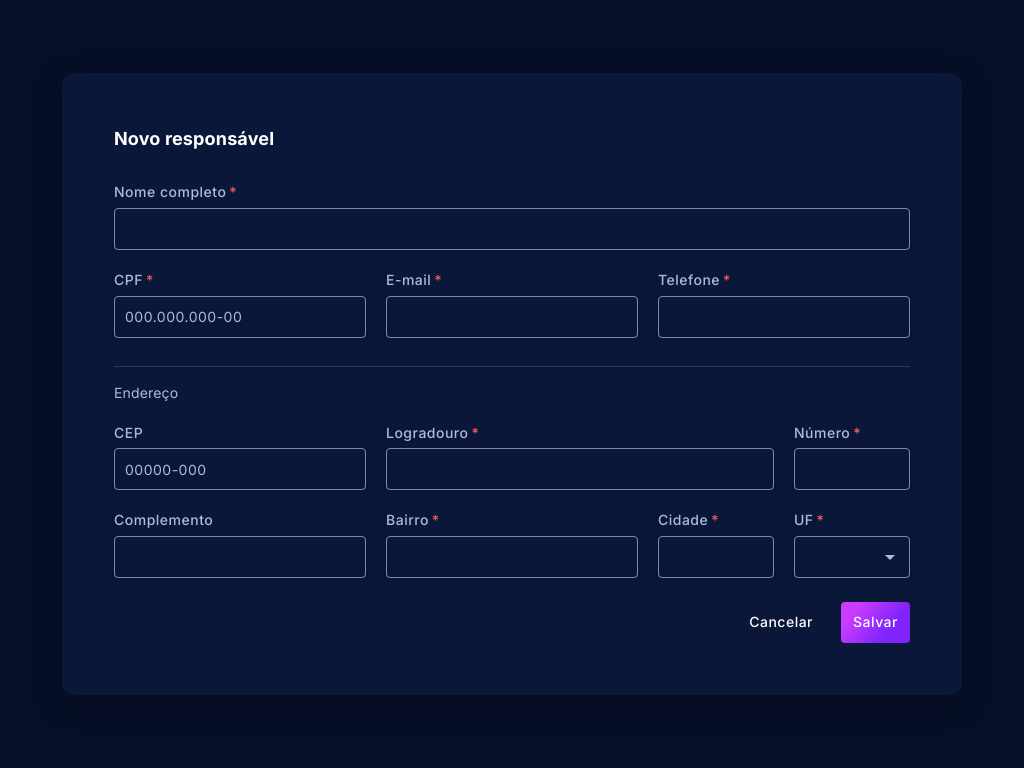
Scenario: GuardianFormDialog › client-side rules that spare a round trip › requires nome completo
Click the button "Salvar": (876, 622) left=841, top=602, right=910, bottom=643
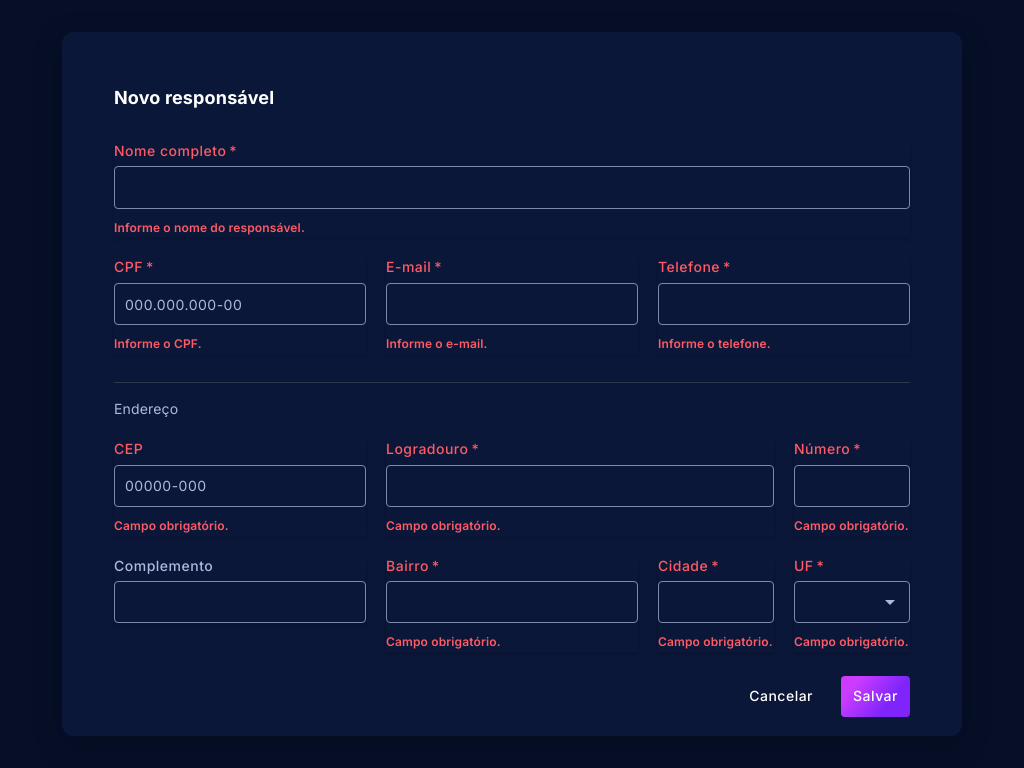
Check: the text "Informe o nome do responsável." is shown, box left=114, top=220, right=305, bottom=234
